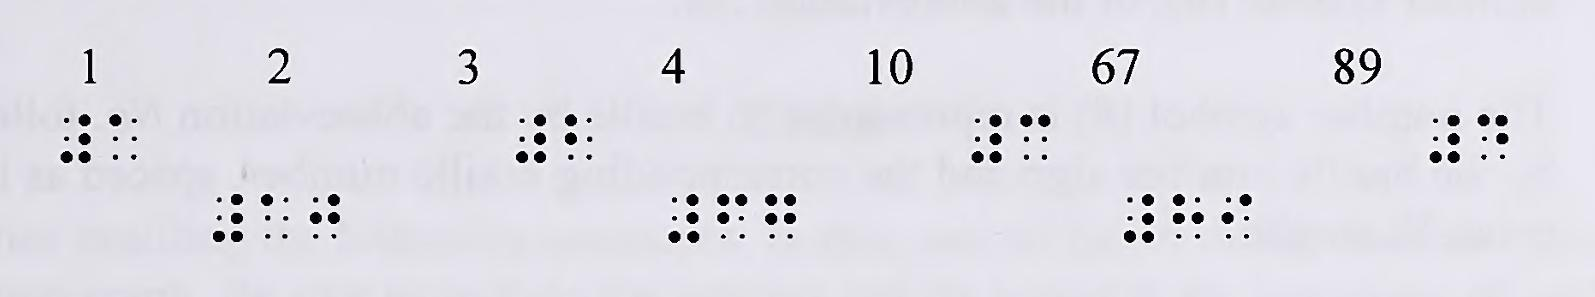0: (311, 191, 341, 241)
1: (108, 110, 140, 160), (260, 191, 290, 241)
2: (565, 112, 591, 160)
3: (1019, 112, 1051, 164)
4: (1479, 111, 1509, 165)
6: (718, 190, 749, 241)
7: (766, 192, 795, 242)
8: (1172, 193, 1205, 240)
9: (1220, 193, 1250, 241)
number: (1429, 112, 1464, 166), (210, 193, 244, 243), (62, 113, 93, 166), (669, 190, 700, 242), (1124, 193, 1156, 242), (517, 113, 546, 164), (971, 116, 1004, 162)
